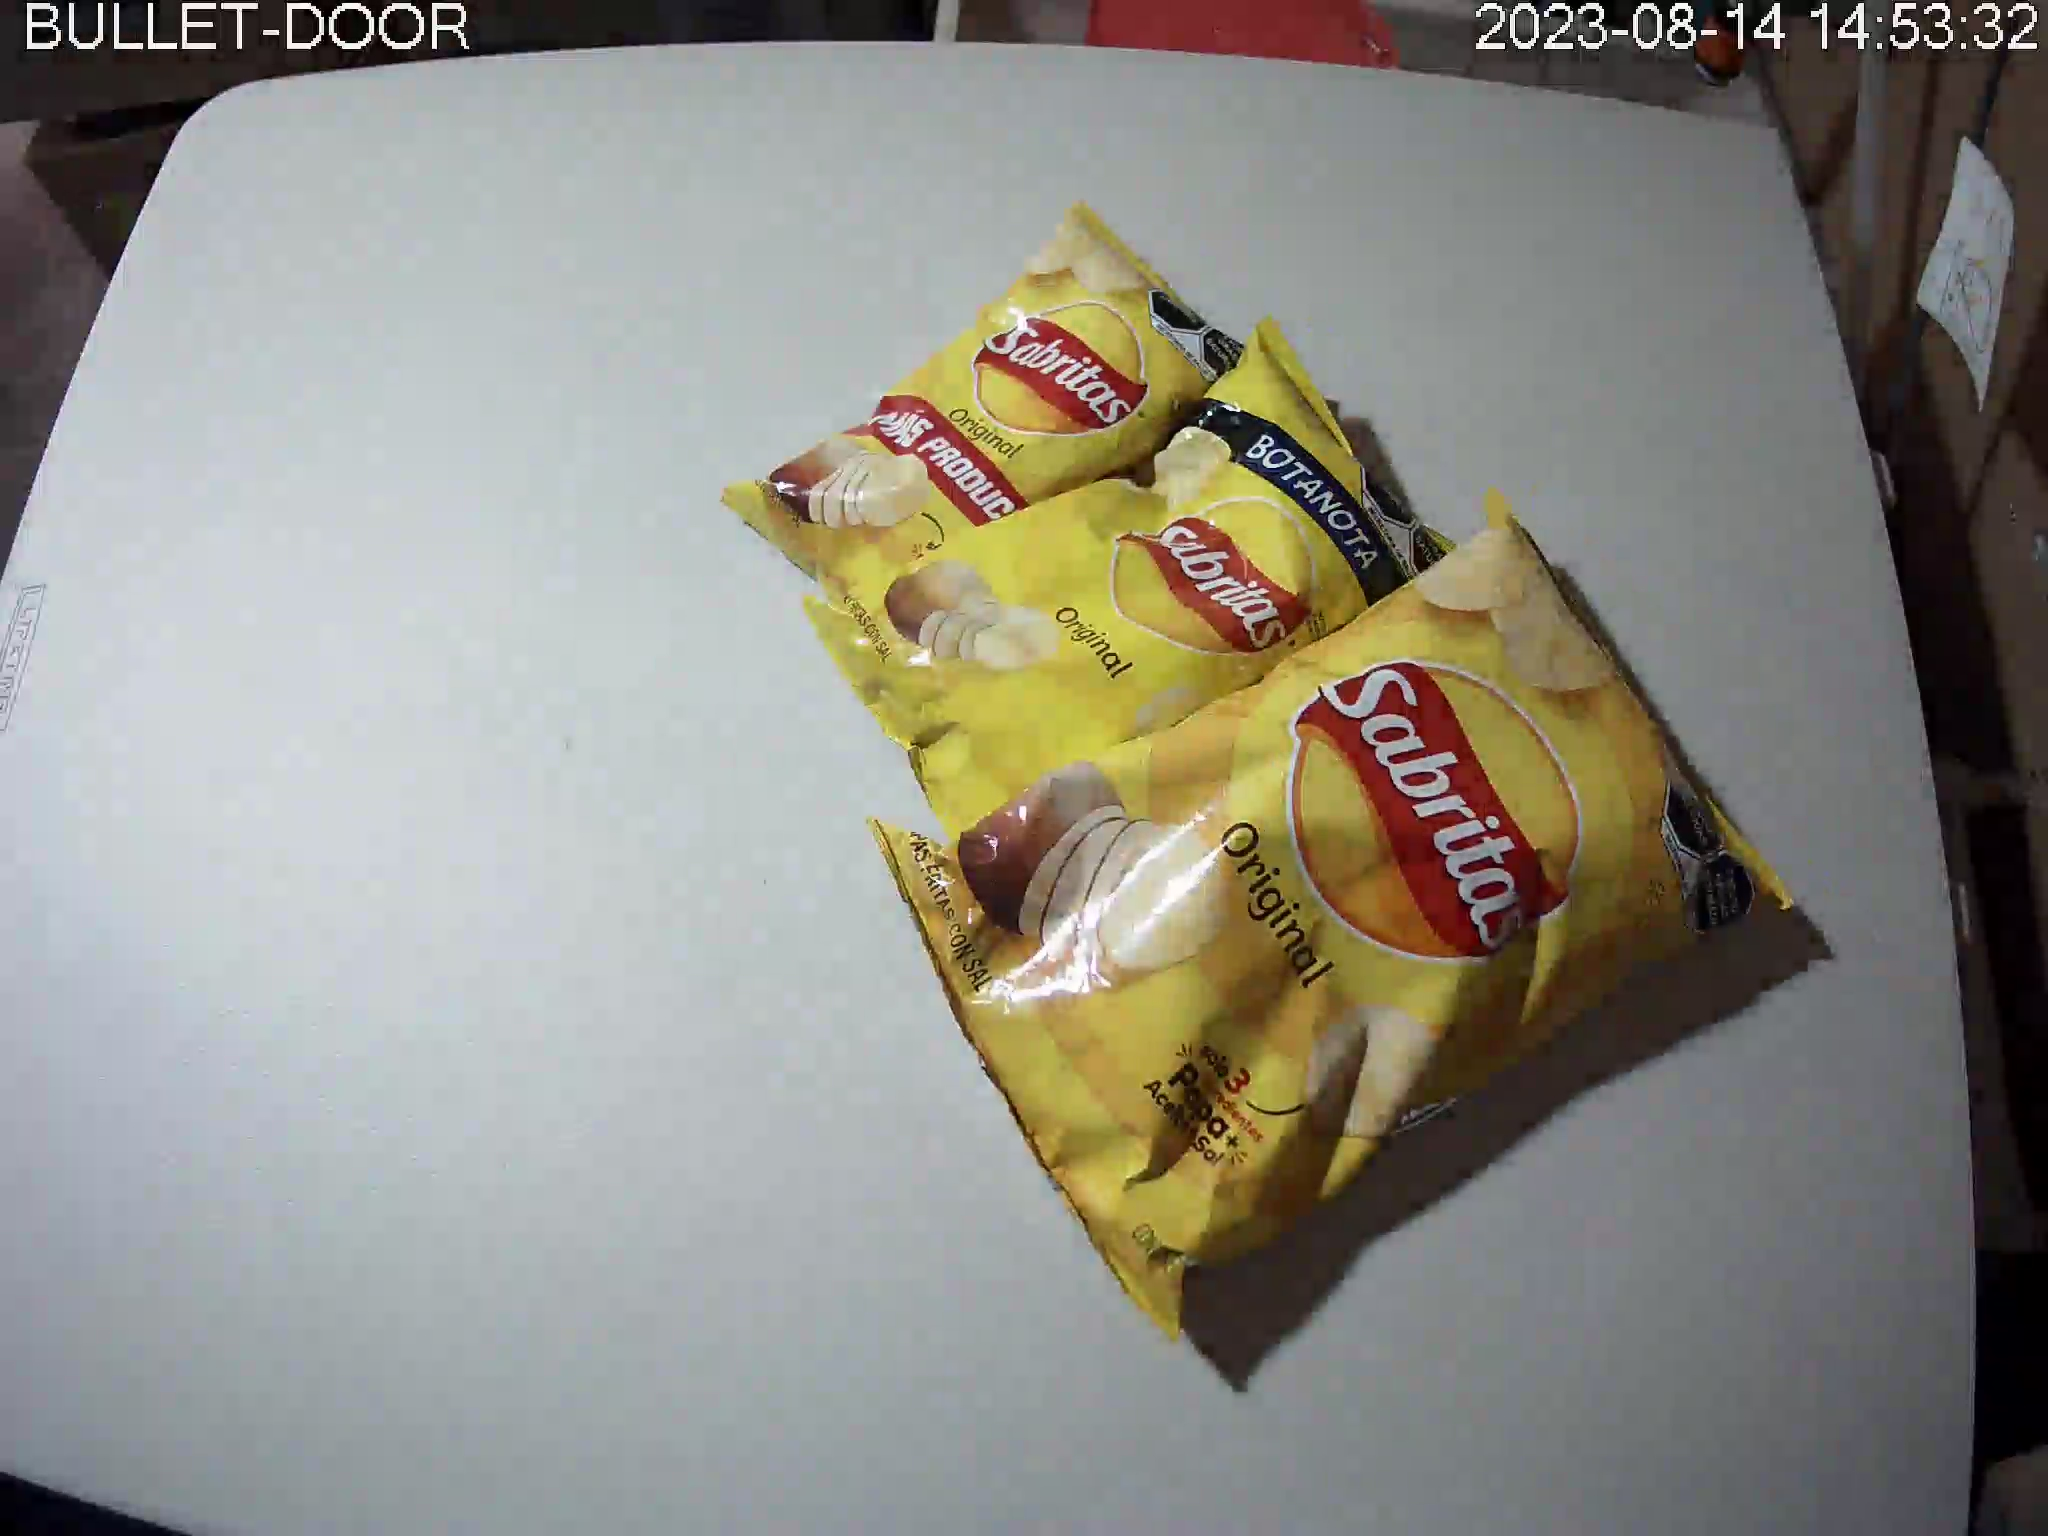Sabritas_160_F: (863, 490, 1793, 1349)
Sabritas_45_F: (719, 198, 1269, 631)
Sabritas_64_F: (801, 315, 1472, 857)
